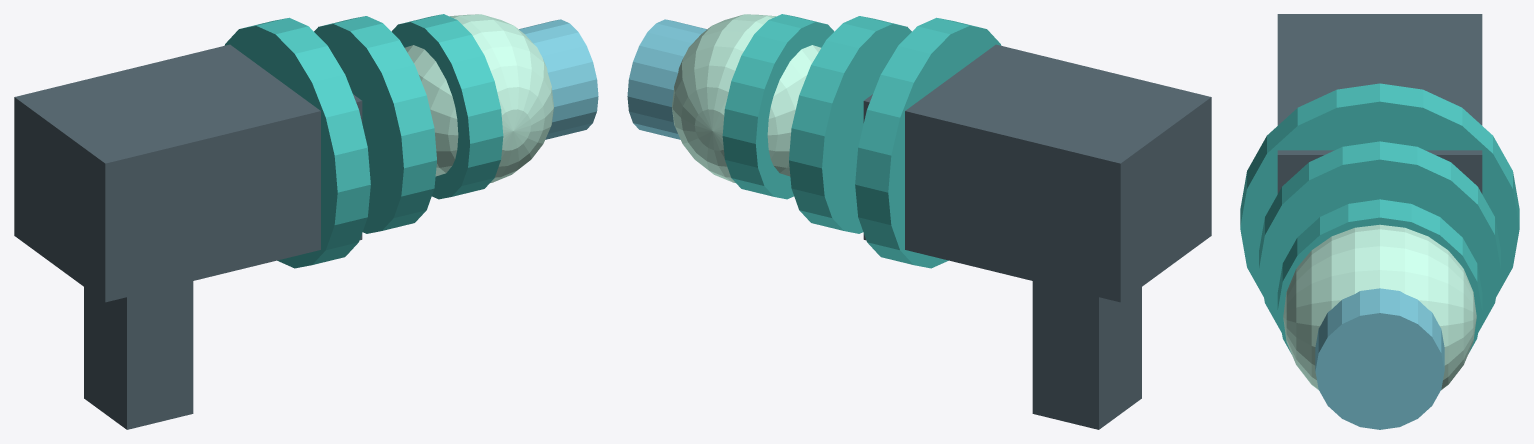
Rendered from bp_weaponpulse.glb.
The picture shows the model from 3 angles, left to right: view 1: azimuth 30°, elevation 25°; view 2: azimuth 150°, elevation 25°; view 3: azimuth 270°, elevation 25°; orthographic projection. The views are drawn at different scales.
Parts seen in each view (by area): view 1: PulseBody, PulseCoil.001, Grip.005, PulseCoil, EnergyCore, PulseCoil.002, Emitter; view 2: PulseBody, PulseCoil.001, Grip.005, PulseCoil, EnergyCore, PulseCoil.002, Emitter; view 3: PulseBody, PulseCoil, PulseCoil.001, EnergyCore, Emitter, PulseCoil.002.
Boxes of the visible parts, x1,y1,x2,y2 form: PulseBody: (14,44,362,302); PulseCoil.001: (314,16,436,233); Grip.005: (84,281,193,429); PulseCoil: (224,17,370,268); EnergyCore: (405,14,553,182); PulseCoil.002: (391,14,503,199); Emitter: (519,19,598,139); PulseBody: (863,44,1211,302); PulseCoil.001: (789,16,911,233); Grip.005: (1032,281,1141,429); PulseCoil: (855,17,1001,268); EnergyCore: (672,14,820,182); PulseCoil.002: (722,14,834,199); Emitter: (627,19,706,139); PulseBody: (1277,14,1482,193); PulseCoil: (1240,83,1519,296); PulseCoil.001: (1259,141,1500,332); EnergyCore: (1283,224,1476,390); Emitter: (1315,288,1444,429); PulseCoil.002: (1277,199,1482,353).
Size of the model in its own units: 1.23 by 0.78 by 0.52.
